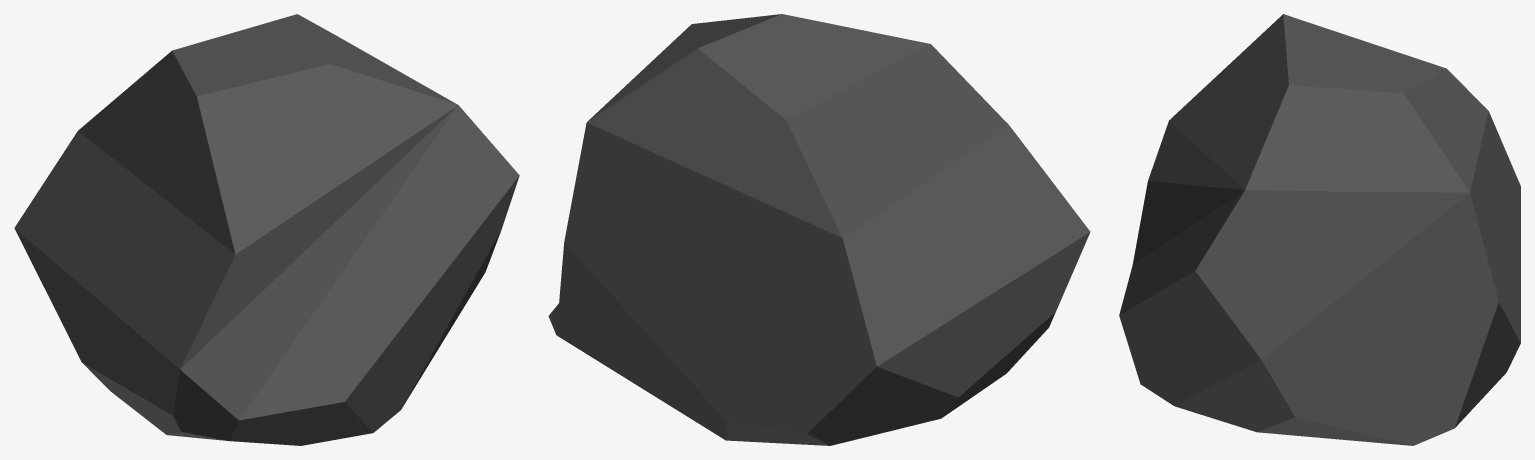
File: boulder.glb
3 renders of one model, left to right at view 1: azimuth 30°, elevation 25°; view 2: azimuth 150°, elevation 25°; view 3: azimuth 270°, elevation 25°, orthographic. The views are drawn at different scales.
Visible parts, largest first — view 1: boulder; view 2: boulder; view 3: boulder.
Boxes of the visible parts, box(x1,y1,x2,y2) form: boulder: box(14, 14, 519, 445); boulder: box(548, 14, 1090, 445); boulder: box(1119, 14, 1520, 445).
Size of the model in its own units: 3.1 by 2.45 by 2.81.
1 material, 1 textured.
